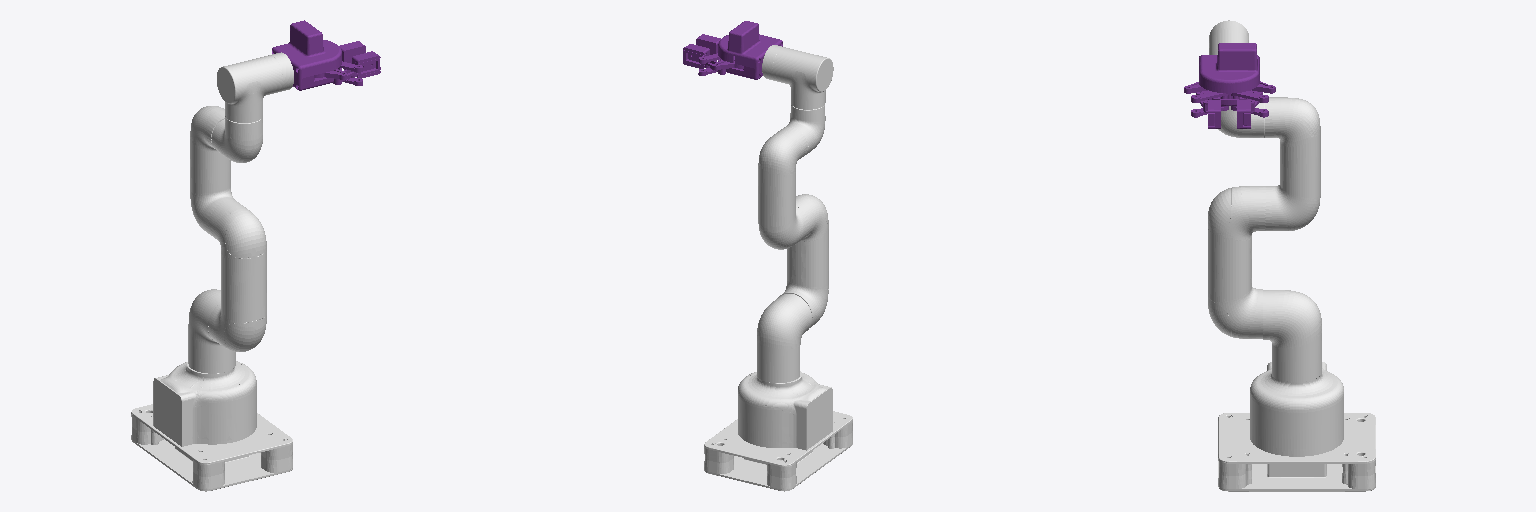
URDF robot description (mycobot280):
<?xml version="1.0"?>
<!-- myCobot 280 (JetCobot) + 닫힌 그리퍼. 맵 URDF 의 robot1_mount / robot2_mount 에 붙음 (maps/mapfile.py to_ros) -->
<robot name="mycobot280" base="g_base">
  <link name="g_base"><visual><origin xyz="0.000000 0.000000 0.000000" rpy="0.000000 -0.000000 0.000000" /><geometry><mesh filename="meshes/link_g_base.stl" /></geometry><material name="robot"><color rgba="0.930 0.930 0.930 1.000" /></material></visual></link>
  <link name="joint1"><visual><origin xyz="0.000000 0.000000 0.000000" rpy="0.000000 -0.000000 0.000000" /><geometry><mesh filename="meshes/link_joint1.stl" /></geometry><material name="robot"><color rgba="0.930 0.930 0.930 1.000" /></material></visual></link>
  <link name="joint2"><visual><origin xyz="0.000000 0.000000 0.000000" rpy="0.000000 -0.000000 0.000000" /><geometry><mesh filename="meshes/link_joint2.stl" /></geometry><material name="robot"><color rgba="0.930 0.930 0.930 1.000" /></material></visual></link>
  <link name="joint3"><visual><origin xyz="0.000000 0.000000 0.000000" rpy="0.000000 -0.000000 0.000000" /><geometry><mesh filename="meshes/link_joint3.stl" /></geometry><material name="robot"><color rgba="0.930 0.930 0.930 1.000" /></material></visual></link>
  <link name="joint4"><visual><origin xyz="0.000000 0.000000 0.000000" rpy="0.000000 -0.000000 0.000000" /><geometry><mesh filename="meshes/link_joint4.stl" /></geometry><material name="robot"><color rgba="0.930 0.930 0.930 1.000" /></material></visual></link>
  <link name="joint5"><visual><origin xyz="0.000000 0.000000 0.000000" rpy="0.000000 -0.000000 0.000000" /><geometry><mesh filename="meshes/link_joint5.stl" /></geometry><material name="robot"><color rgba="0.930 0.930 0.930 1.000" /></material></visual></link>
  <link name="joint6"><visual><origin xyz="0.000000 0.000000 0.000000" rpy="0.000000 -0.000000 0.000000" /><geometry><mesh filename="meshes/link_joint6.stl" /></geometry><material name="robot"><color rgba="0.930 0.930 0.930 1.000" /></material></visual></link>
  <link name="joint6_flange"><visual><origin xyz="0.000000 0.000000 0.000000" rpy="0.000000 -0.000000 0.000000" /><geometry><mesh filename="meshes/link_joint6_flange.stl" /></geometry><material name="robot"><color rgba="0.930 0.930 0.930 1.000" /></material></visual></link>
  <link name="gripper"><visual><origin xyz="0.000000 0.000000 0.000000" rpy="0.000000 -0.000000 0.000000" /><geometry><mesh filename="meshes/gripper_closed.stl" /></geometry><material name="gripper"><color rgba="0.550 0.300 0.650 1.000" /></material></visual></link>
  <joint name="g_base_to_joint1" type="fixed"><parent link="g_base" /><child link="joint1" /><origin xyz="0 0 0" rpy="0 0 0" /><axis xyz="0 0 0" /><limit lower="-3.14" upper="3.14159" effort="1000.0" velocity="0" /></joint>
  <joint name="joint2_to_joint1" type="revolute"><parent link="joint1" /><child link="joint2" /><origin xyz="0 0 0.13156" rpy="0 0 0" /><axis xyz="0 0 1" /><limit lower="-2.9321" upper="2.9321" effort="1000.0" velocity="0" /></joint>
  <joint name="joint3_to_joint2" type="revolute"><parent link="joint2" /><child link="joint3" /><origin xyz="0 0  0" rpy="0 1.5708 -1.5708" /><axis xyz="0 0 1" /><limit lower="-2.4434" upper="2.4434" effort="1000.0" velocity="0" /></joint>
  <joint name="joint4_to_joint3" type="revolute"><parent link="joint3" /><child link="joint4" /><origin xyz="  -0.1104 0 0   " rpy="0 0 0" /><axis xyz=" 0 0 1" /><limit lower="-2.6179" upper="2.6179" effort="1000.0" velocity="0" /></joint>
  <joint name="joint5_to_joint4" type="revolute"><parent link="joint4" /><child link="joint5" /><origin xyz="-0.096 0 0.06462" rpy="0 0 -1.5708" /><axis xyz=" 0 0 1" /><limit lower="-2.6179" upper="2.6179" effort="1000.0" velocity="0" /></joint>
  <joint name="joint6_to_joint5" type="revolute"><parent link="joint5" /><child link="joint6" /><origin xyz="0 -0.07318 0" rpy="1.5708 -1.5708 0" /><axis xyz="0 0 1" /><limit lower="-2.7052" upper="2.7925" effort="1000.0" velocity="0" /></joint>
  <joint name="joint6output_to_joint6" type="revolute"><parent link="joint6" /><child link="joint6_flange" /><origin xyz="0 0.0456 0" rpy="-1.5708 0 0" /><axis xyz="0 0 1" /><limit lower="-3.14159" upper="3.14159" effort="1000.0" velocity="0" /></joint>
  <joint name="flange_to_gripper" type="fixed"><parent link="joint6_flange" /><child link="gripper" /><origin xyz="0.000000 0.000000 0.000000" rpy="0.000000 -0.000000 0.000000" /></joint>
</robot>

--- What the picture shows (computed from the rendered views, not written in the file) ---
The picture shows the robot from 3 angles, left to right: view 1: azimuth 30°, elevation 25°; view 2: azimuth 150°, elevation 25°; view 3: azimuth 270°, elevation 25°; orthographic projection.
Model mycobot280 with 9 links and 8 joints (6 revolute, 2 fixed), rooted at g_base, posed all joints at 0.
Links seen in each view (by area): view 1: joint1, joint3, g_base, gripper, joint4, joint6, joint2, joint5; view 2: joint1, g_base, joint4, joint2, joint3, gripper, joint6, joint5; view 3: g_base, joint3, joint1, joint4, gripper, joint2, joint5, joint6.
Link boxes in pixels (x1=…): joint1: x1=153, y1=361, x2=256, y2=446; joint3: x1=208, y1=201, x2=266, y2=351; g_base: x1=131, y1=404, x2=292, y2=491; gripper: x1=272, y1=20, x2=380, y2=90; joint4: x1=190, y1=106, x2=238, y2=235; joint6: x1=217, y1=55, x2=283, y2=122; joint2: x1=188, y1=289, x2=235, y2=373; joint5: x1=211, y1=116, x2=262, y2=162; joint1: x1=738, y1=371, x2=832, y2=450; g_base: x1=704, y1=411, x2=852, y2=491; joint4: x1=758, y1=127, x2=808, y2=249; joint2: x1=757, y1=294, x2=811, y2=382; joint3: x1=778, y1=194, x2=828, y2=327; gripper: x1=683, y1=21, x2=782, y2=79; joint6: x1=772, y1=47, x2=833, y2=109; joint5: x1=786, y1=105, x2=825, y2=156; g_base: x1=1218, y1=413, x2=1375, y2=491; joint3: x1=1208, y1=186, x2=1265, y2=338; joint1: x1=1250, y1=362, x2=1343, y2=456; joint4: x1=1265, y1=97, x2=1320, y2=230; gripper: x1=1184, y1=43, x2=1275, y2=128; joint2: x1=1263, y1=290, x2=1321, y2=381; joint5: x1=1218, y1=103, x2=1264, y2=137; joint6: x1=1209, y1=20, x2=1248, y2=54.
Size in the robot's own frame: 0.2016 by 0.1826 by 0.4789 metres.
Meshes: 9 distinct files referenced, 9 mesh visuals loaded (9 binary STL).
